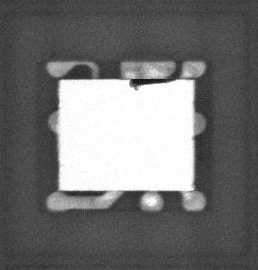DIE_BROKEN: (128, 75, 175, 91)
